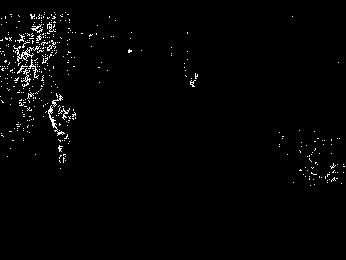person: (46, 92, 77, 164)
